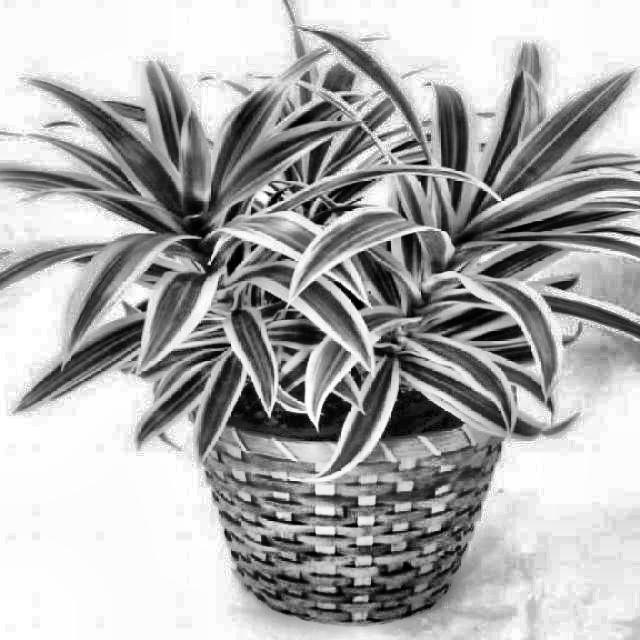plants: (106, 40, 586, 422)
